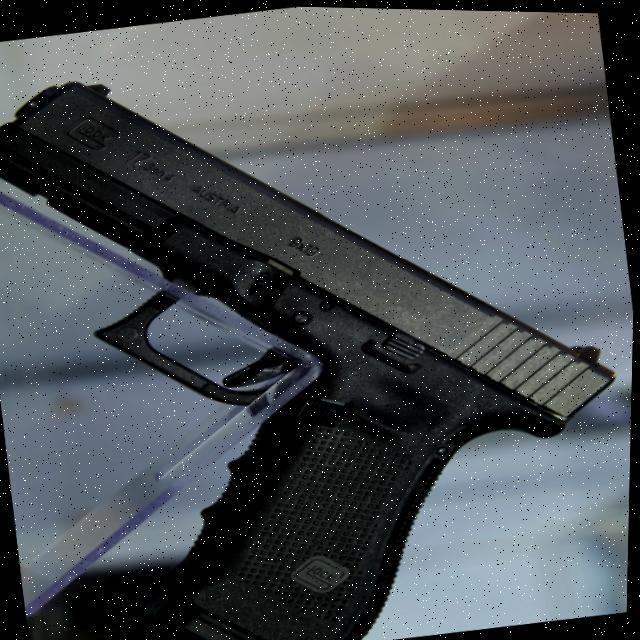pistol: (0, 7, 640, 640)
